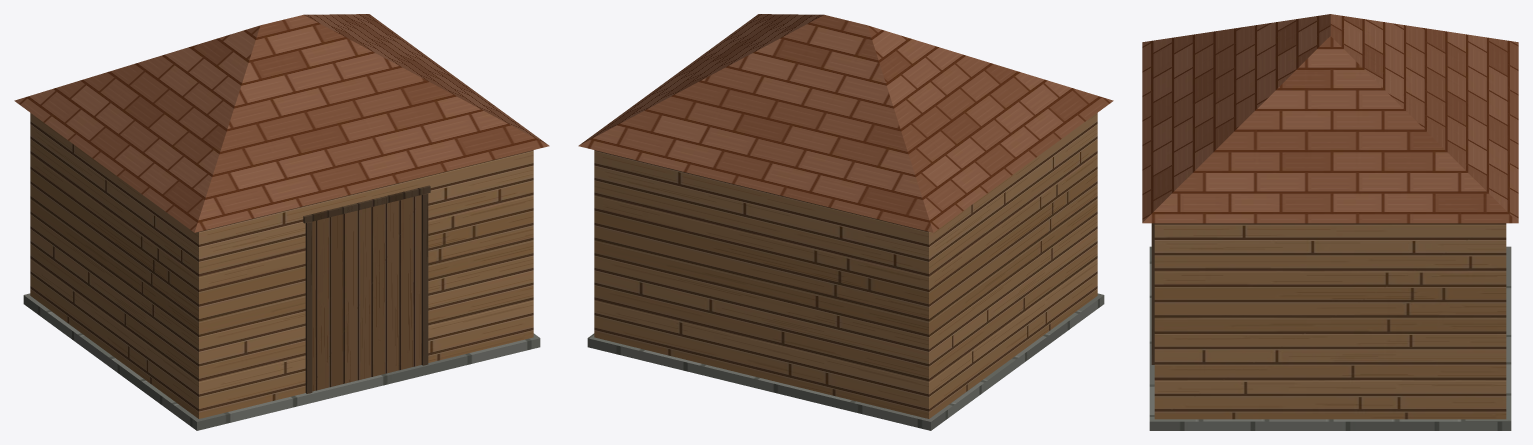
Rendered from house_booth.glb.
3 renders of one model, left to right at view 1: azimuth 30°, elevation 25°; view 2: azimuth 150°, elevation 25°; view 3: azimuth 270°, elevation 25°, orthographic. The views are drawn at different scales.
Visible parts, largest first — view 1: ae_sand_house_booth; view 2: ae_sand_house_booth; view 3: ae_sand_house_booth.
Part boxes in pixels (x1=…): ae_sand_house_booth: x1=14, y1=14, x2=549, y2=430; ae_sand_house_booth: x1=578, y1=14, x2=1113, y2=430; ae_sand_house_booth: x1=1142, y1=14, x2=1518, y2=430.
Bounding box in the file's own units: 4.14 × 3.4 × 3.64.
1 material, 1 textured.
